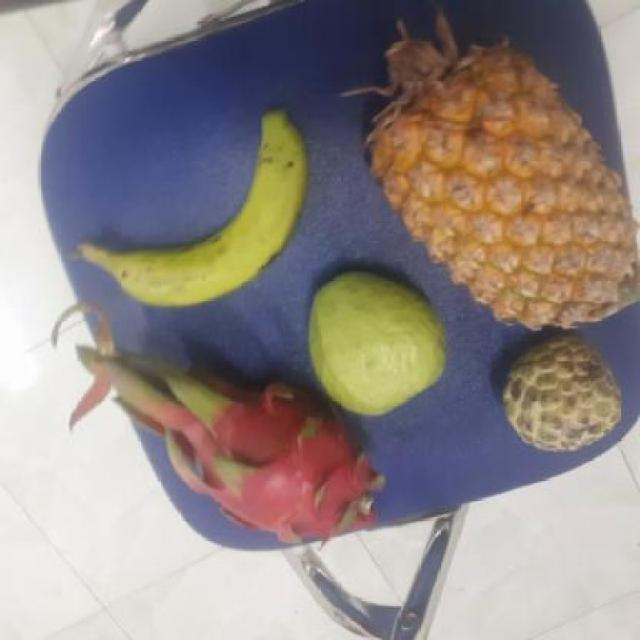banana: (82, 124, 310, 304)
dragon fruit: (183, 373, 374, 549)
guava: (303, 271, 448, 415)
sugar apple: (495, 332, 623, 450)
